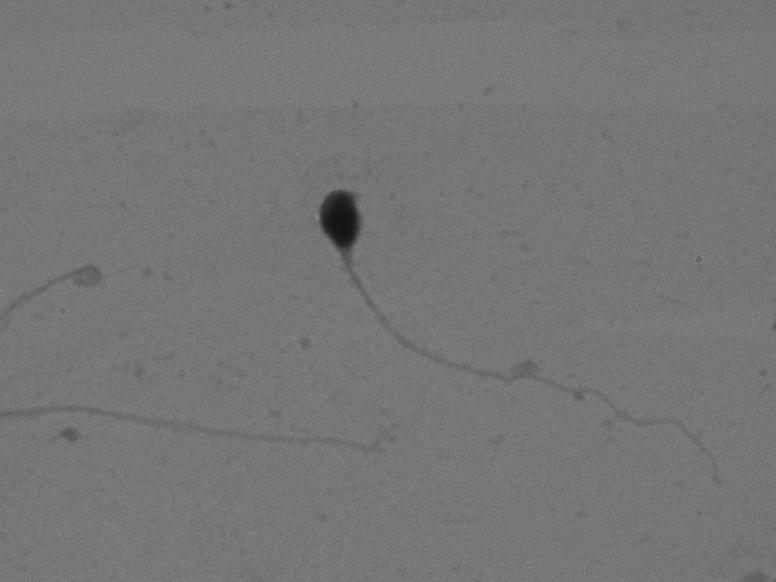Abnormal: (295, 172, 728, 486)
